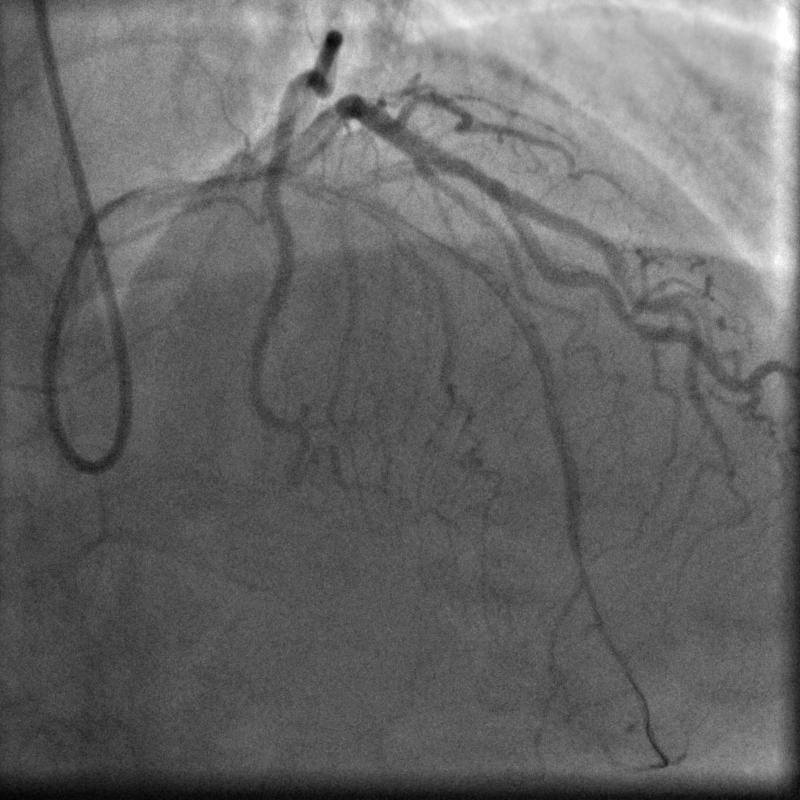Stenosis: (459, 154, 503, 200)
